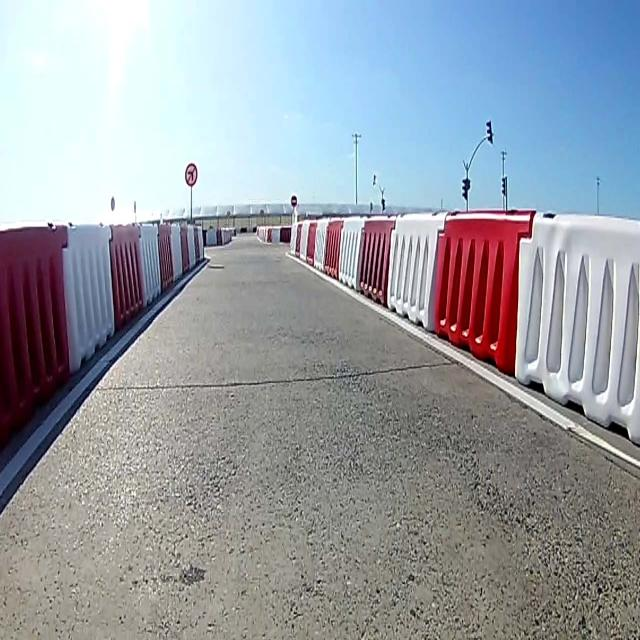girisyok: (290, 193, 298, 205)
soladonulmez: (185, 162, 197, 185)
